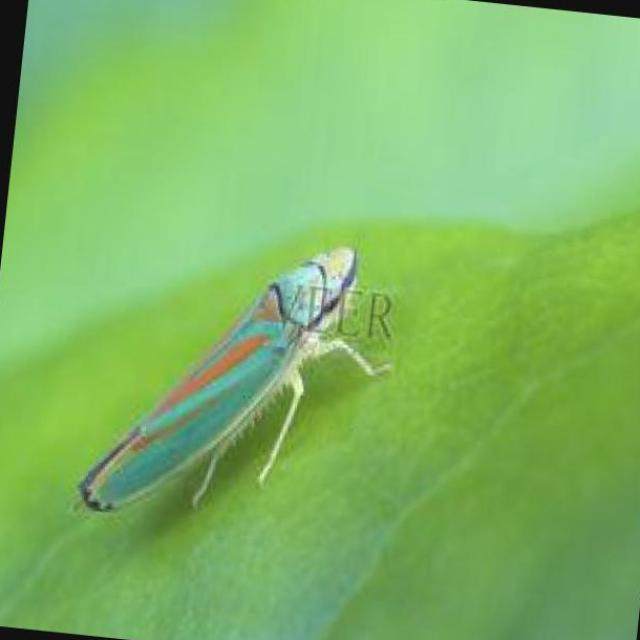green leaf hopper: (79, 248, 389, 511)
